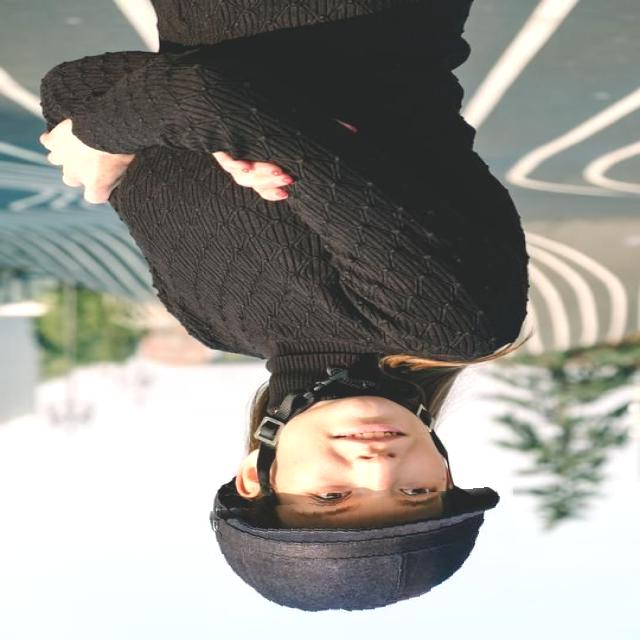helmet: (202, 492, 520, 626)
